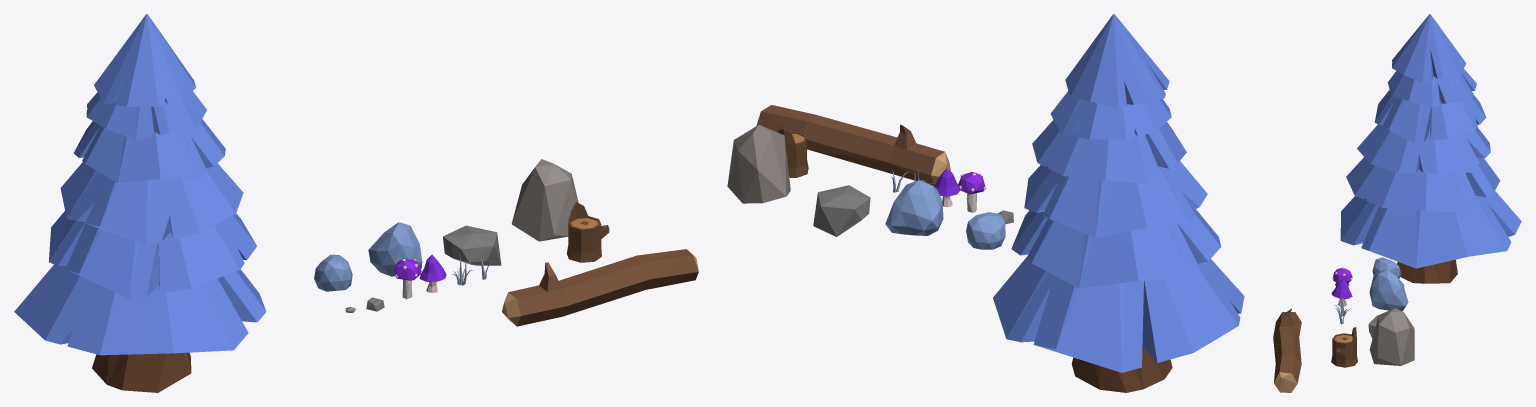
Rendered from environment.fbx.
3 views of the same model, side by side, from view 1: azimuth 30°, elevation 25°; view 2: azimuth 150°, elevation 25°; view 3: azimuth 270°, elevation 25° (orthographic). The views are drawn at different scales.
Visible parts, largest first — view 1: Cone, Branch, Rock4, Cylinder, Rock1, Bush1, Stump1, Bush2, Mushroom1, Mushroom2; view 2: Cone, Branch, Rock4, Bush1, Cylinder, Rock1, Bush2, Stump1, Mushroom1, Mushroom2; view 3: Cone, Rock4, Branch, Bush1, Cylinder, Stump1, Bush2, Mushroom2, Mushroom1.
Boxes of the visible parts, <box> form: Cone: <box>14,14,266,355</box>; Branch: <box>502,249,698,326</box>; Rock4: <box>511,159,578,241</box>; Cylinder: <box>92,352,191,392</box>; Rock1: <box>443,225,501,265</box>; Bush1: <box>368,222,422,276</box>; Stump1: <box>566,202,609,262</box>; Bush2: <box>314,254,352,291</box>; Mushroom1: <box>394,258,421,298</box>; Mushroom2: <box>419,254,446,292</box>; Cone: <box>993,14,1244,372</box>; Branch: <box>756,105,950,185</box>; Rock4: <box>727,125,790,203</box>; Bush1: <box>885,180,943,235</box>; Cylinder: <box>1071,347,1172,392</box>; Rock1: <box>813,185,870,236</box>; Bush2: <box>966,212,1005,249</box>; Stump1: <box>778,128,808,177</box>; Mushroom1: <box>958,171,986,212</box>; Mushroom2: <box>933,168,959,206</box>; Cone: <box>1340,14,1521,268</box>; Rock4: <box>1369,308,1414,365</box>; Branch: <box>1273,308,1301,392</box>; Bush1: <box>1369,270,1408,310</box>; Cylinder: <box>1397,259,1457,283</box>; Stump1: <box>1331,327,1357,367</box>; Bush2: <box>1372,257,1400,278</box>; Mushroom2: <box>1331,279,1352,306</box>; Mushroom1: <box>1332,267,1352,283</box>.
Bounding box in the file's own units: 3543 × 2179 × 1860.
